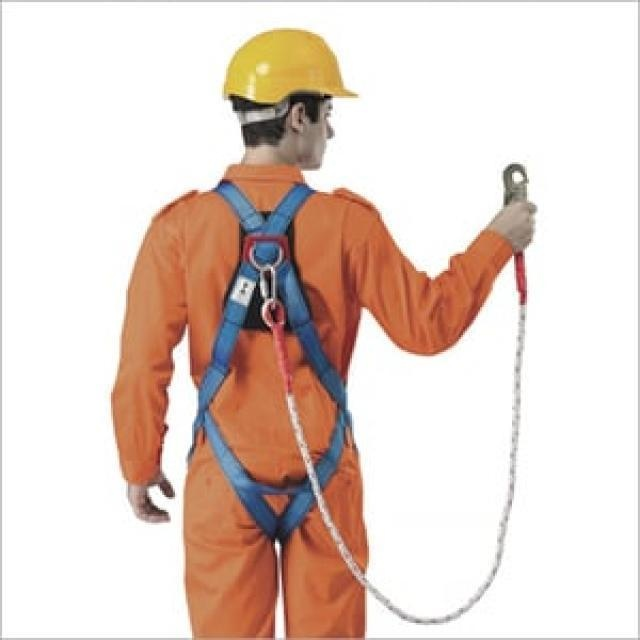Arnes_seguridad: (183, 177, 365, 530)
